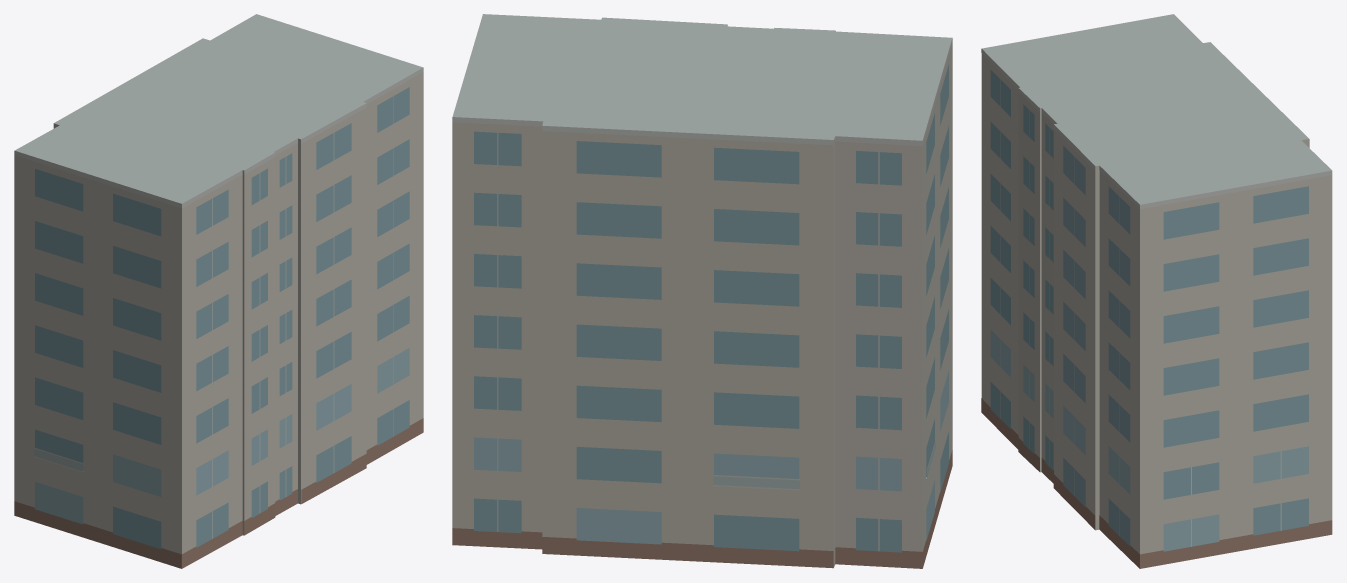
The model's file is survey-upis-32709318.glb.
3 renders of one model, left to right at view 1: azimuth 30°, elevation 25°; view 2: azimuth 150°, elevation 25°; view 3: azimuth 270°, elevation 25°, orthographic. The views are drawn at different scales.
Visible parts, largest first — view 1: survey-upis-32709318.tmp; view 2: survey-upis-32709318.tmp; view 3: survey-upis-32709318.tmp.
Boxes of the visible parts, x1=… form: survey-upis-32709318.tmp: x1=14, y1=14, x2=423, y2=568; survey-upis-32709318.tmp: x1=452, y1=14, x2=952, y2=568; survey-upis-32709318.tmp: x1=981, y1=14, x2=1332, y2=568.
Size of the model in its own units: 22.37 by 19.9 by 17.39.
